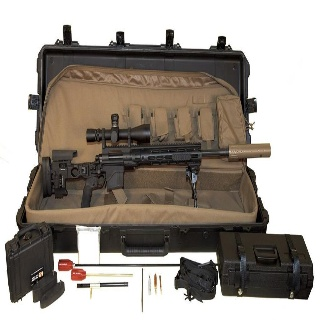rifle: (42, 111, 274, 207)
